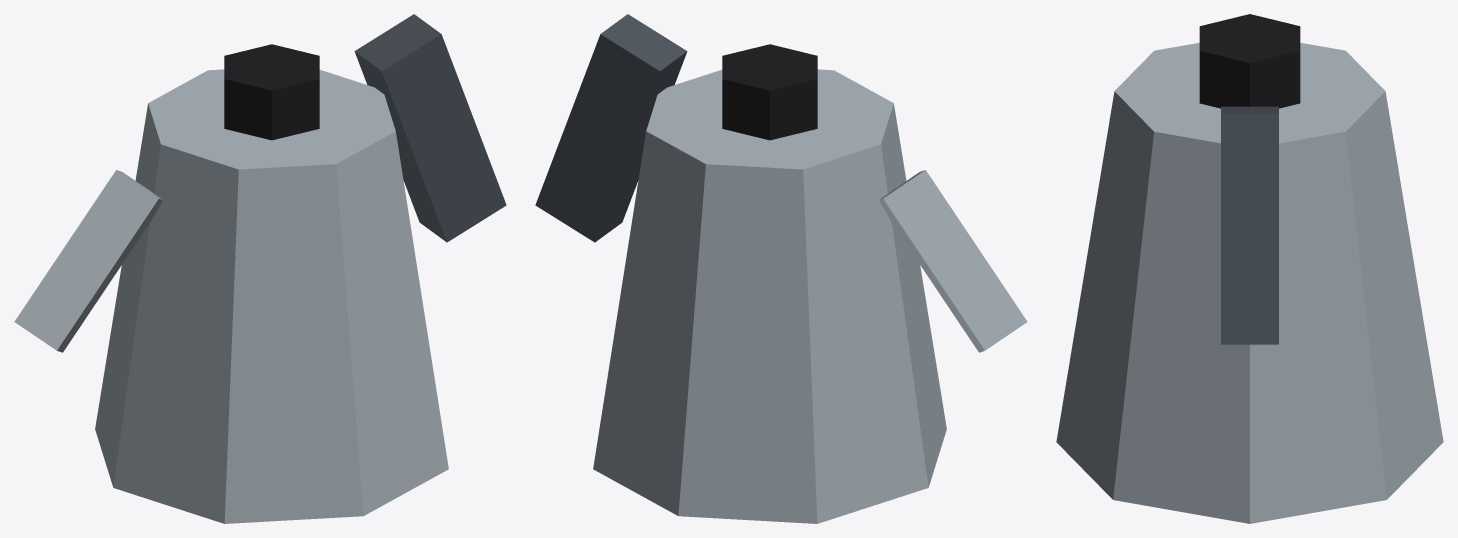
Rendered from GH_Kettle_01.glb.
3 views of the same model, side by side, from view 1: azimuth 30°, elevation 25°; view 2: azimuth 150°, elevation 25°; view 3: azimuth 270°, elevation 25° (orthographic). The views are drawn at different scales.
Visible parts, largest first — view 1: GH_Kettle_01; view 2: GH_Kettle_01; view 3: GH_Kettle_01.
Part boxes in pixels (x1=…): GH_Kettle_01: x1=14, y1=14, x2=506, y2=523; GH_Kettle_01: x1=535, y1=14, x2=1027, y2=523; GH_Kettle_01: x1=1056, y1=14, x2=1443, y2=523.
Bounding box in the file's own units: 0.3018 × 0.2332 × 0.2.
Materials: 1 (1 with a texture image).
